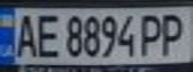4: (115, 11, 142, 57)
8: (81, 11, 103, 58), (63, 11, 84, 58)
9: (100, 11, 121, 58)
A: (9, 10, 42, 58)
E: (33, 10, 63, 58)
P: (157, 9, 190, 56), (136, 11, 166, 57)
